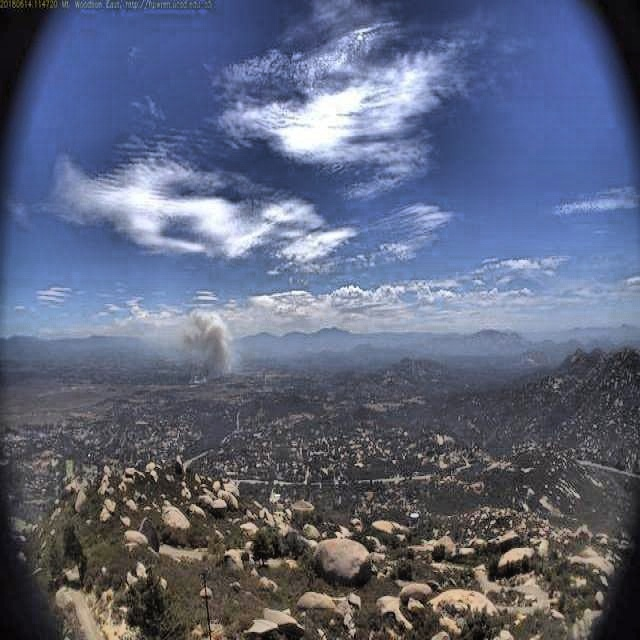smoke: (130, 304, 237, 383)
